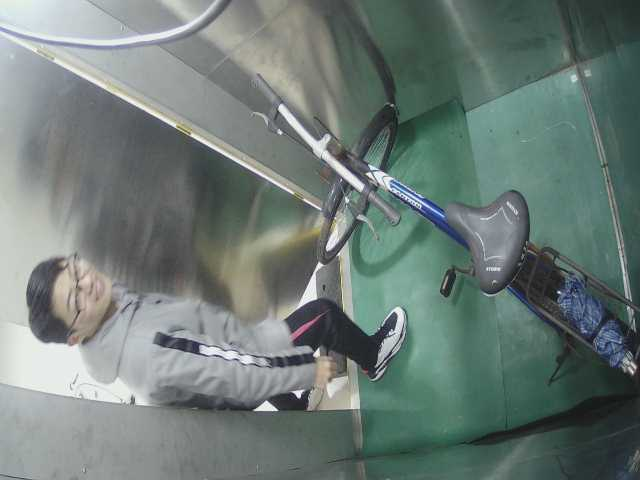bicycle: (247, 67, 640, 388)
person: (23, 247, 413, 420)
